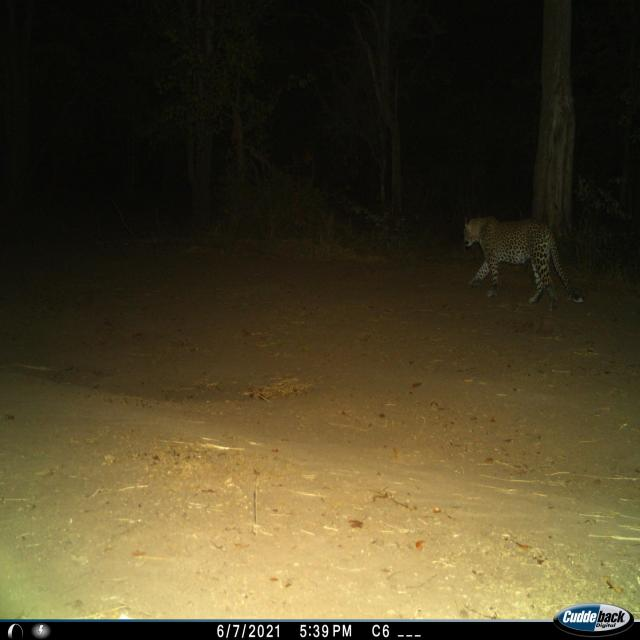Leopard: (448, 212, 590, 318)
